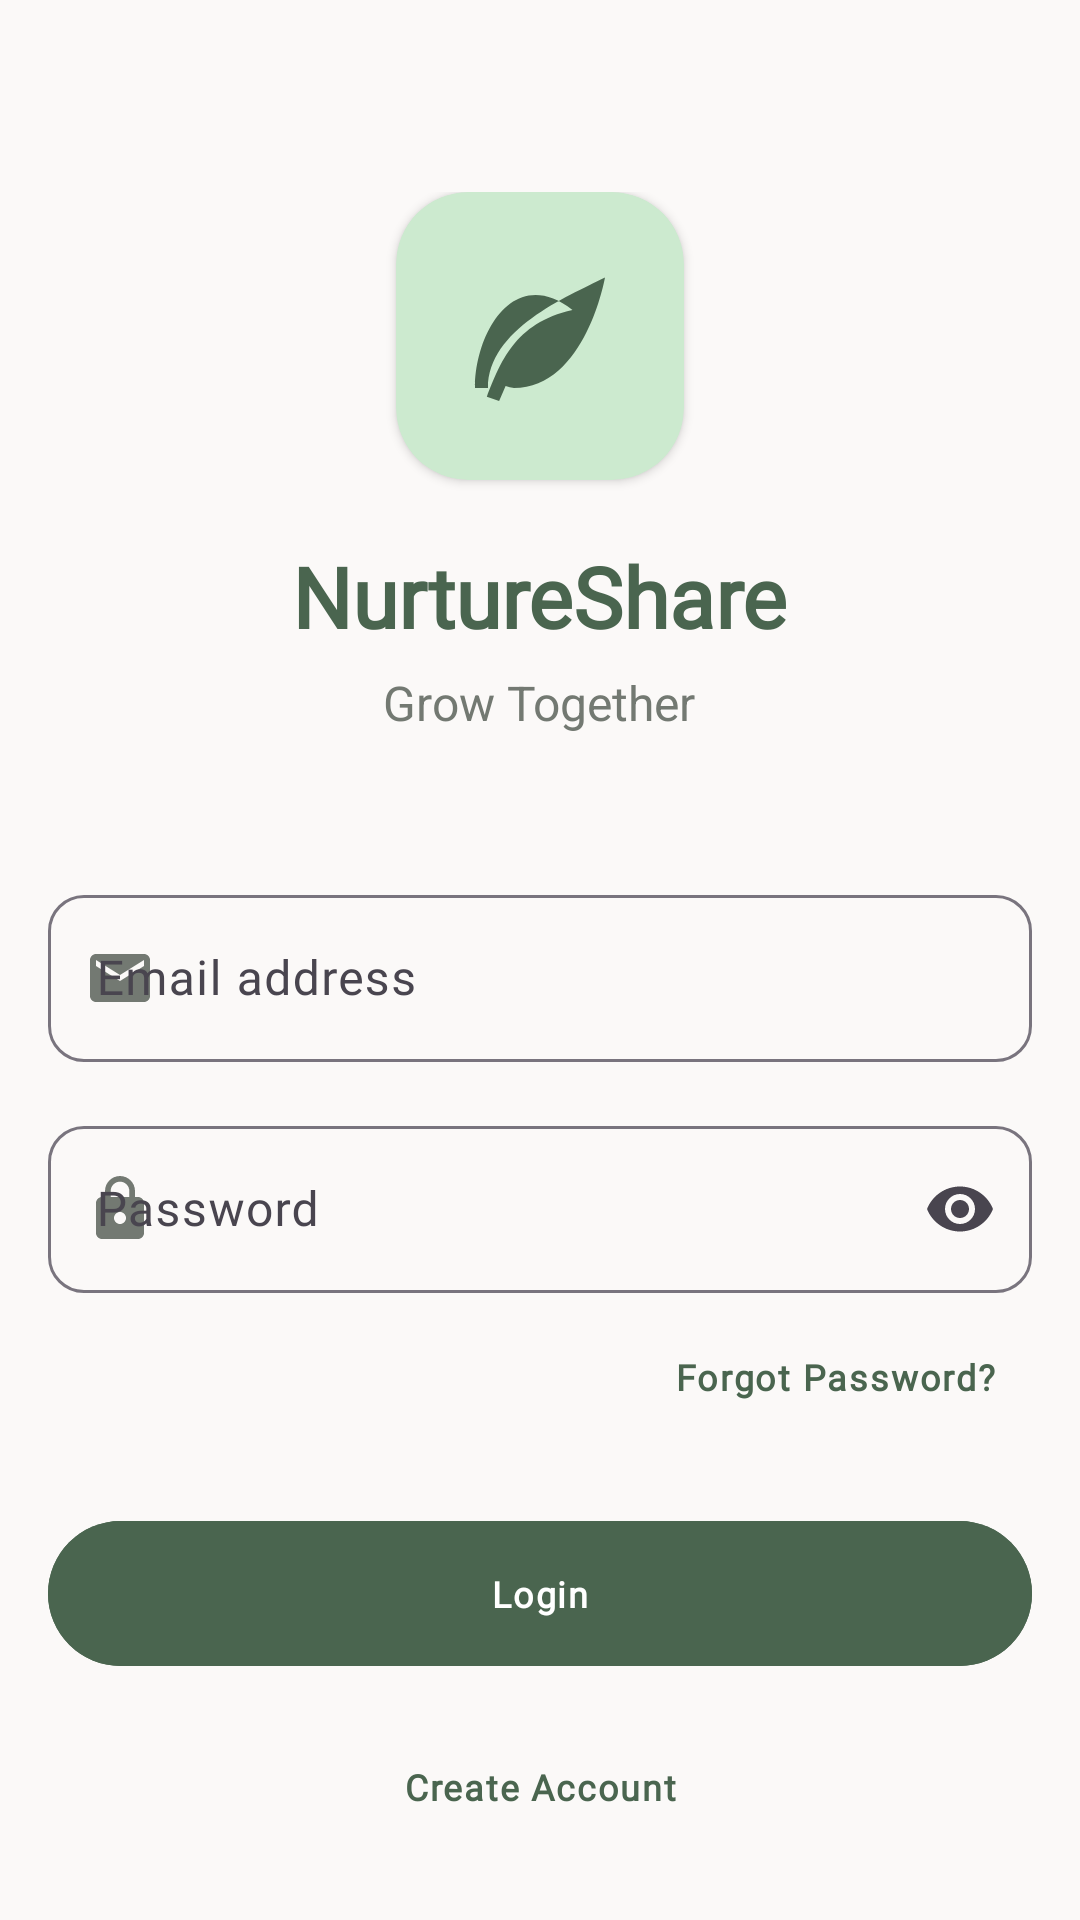

Named icons in this screenshot (1080px x 1920px) and their centers, (x,y):
spa: (540,339)
